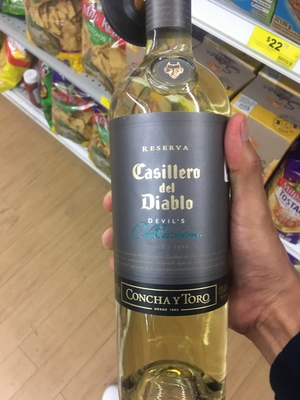casillero del diablo devils collection verde: (110, 16, 244, 395)
